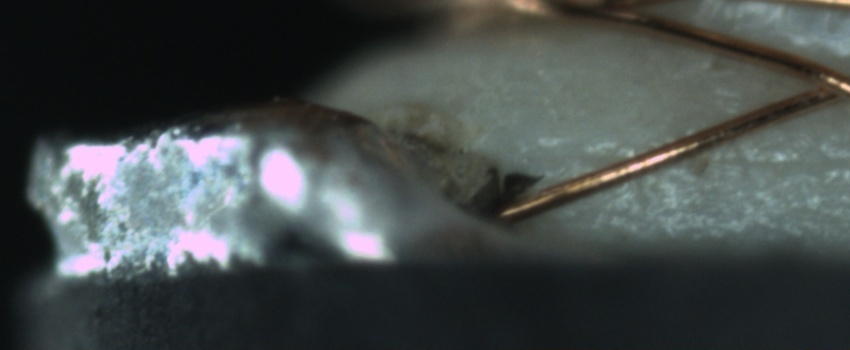CL: (790, 58, 850, 111)
DL: (567, 129, 848, 188)
